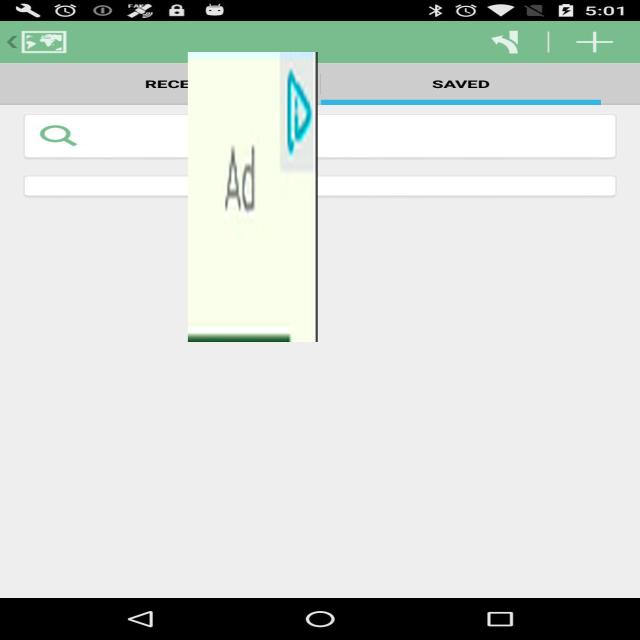sneaking: (188, 52, 318, 342)
